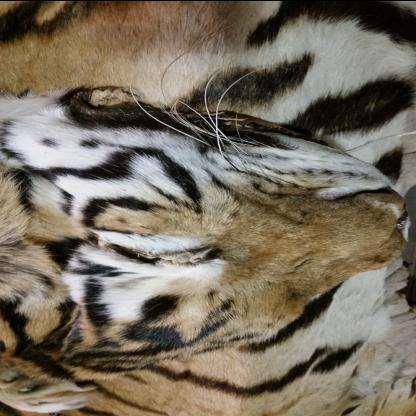tiger: (21, 73, 412, 414)
